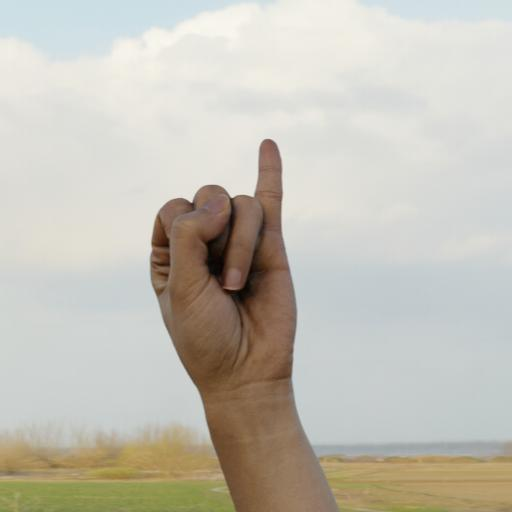I: (110, 108, 346, 512)
